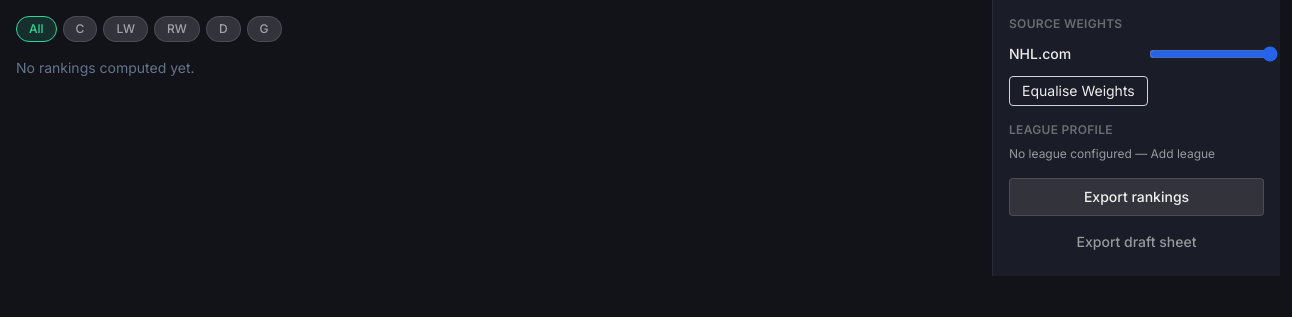
Test case: PreDraftWorkspace › shows a success affordance after a rankings download starts
Click the button "Export rankings" at (1136, 197), box [1009,178,1264,216]
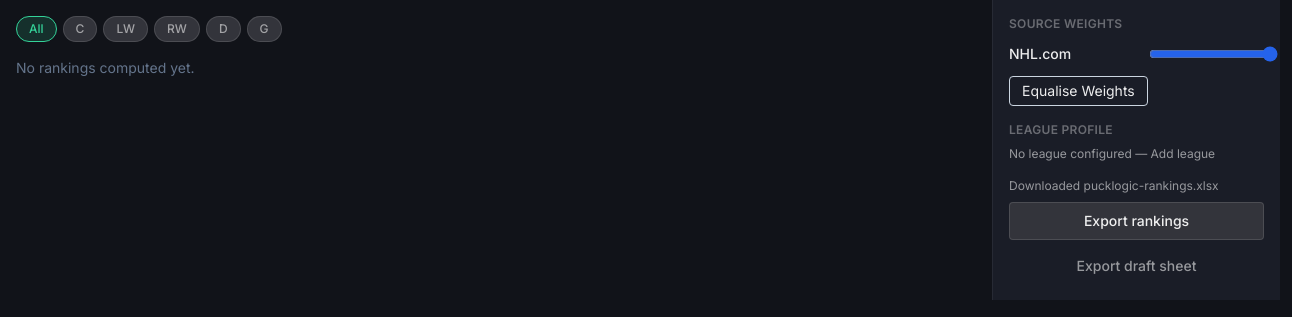
Now the text "Downloaded pucklogic-rankings.xlsx" is shown, box [1009,178,1219,193]
